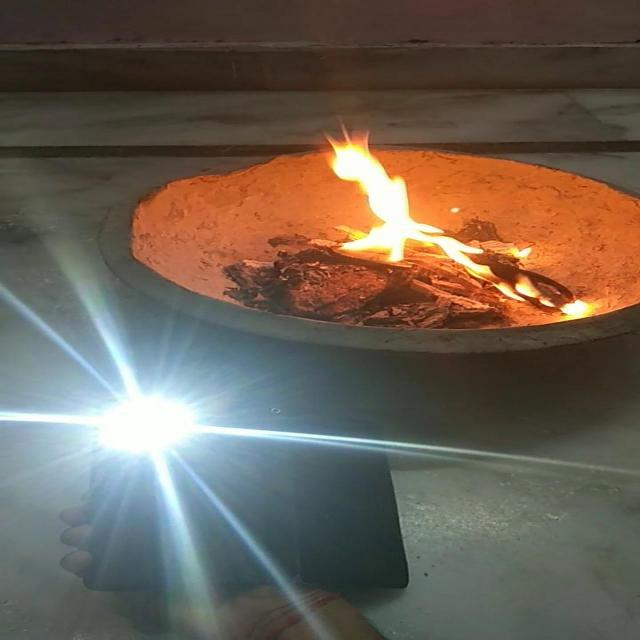fire: (292, 130, 590, 316)
